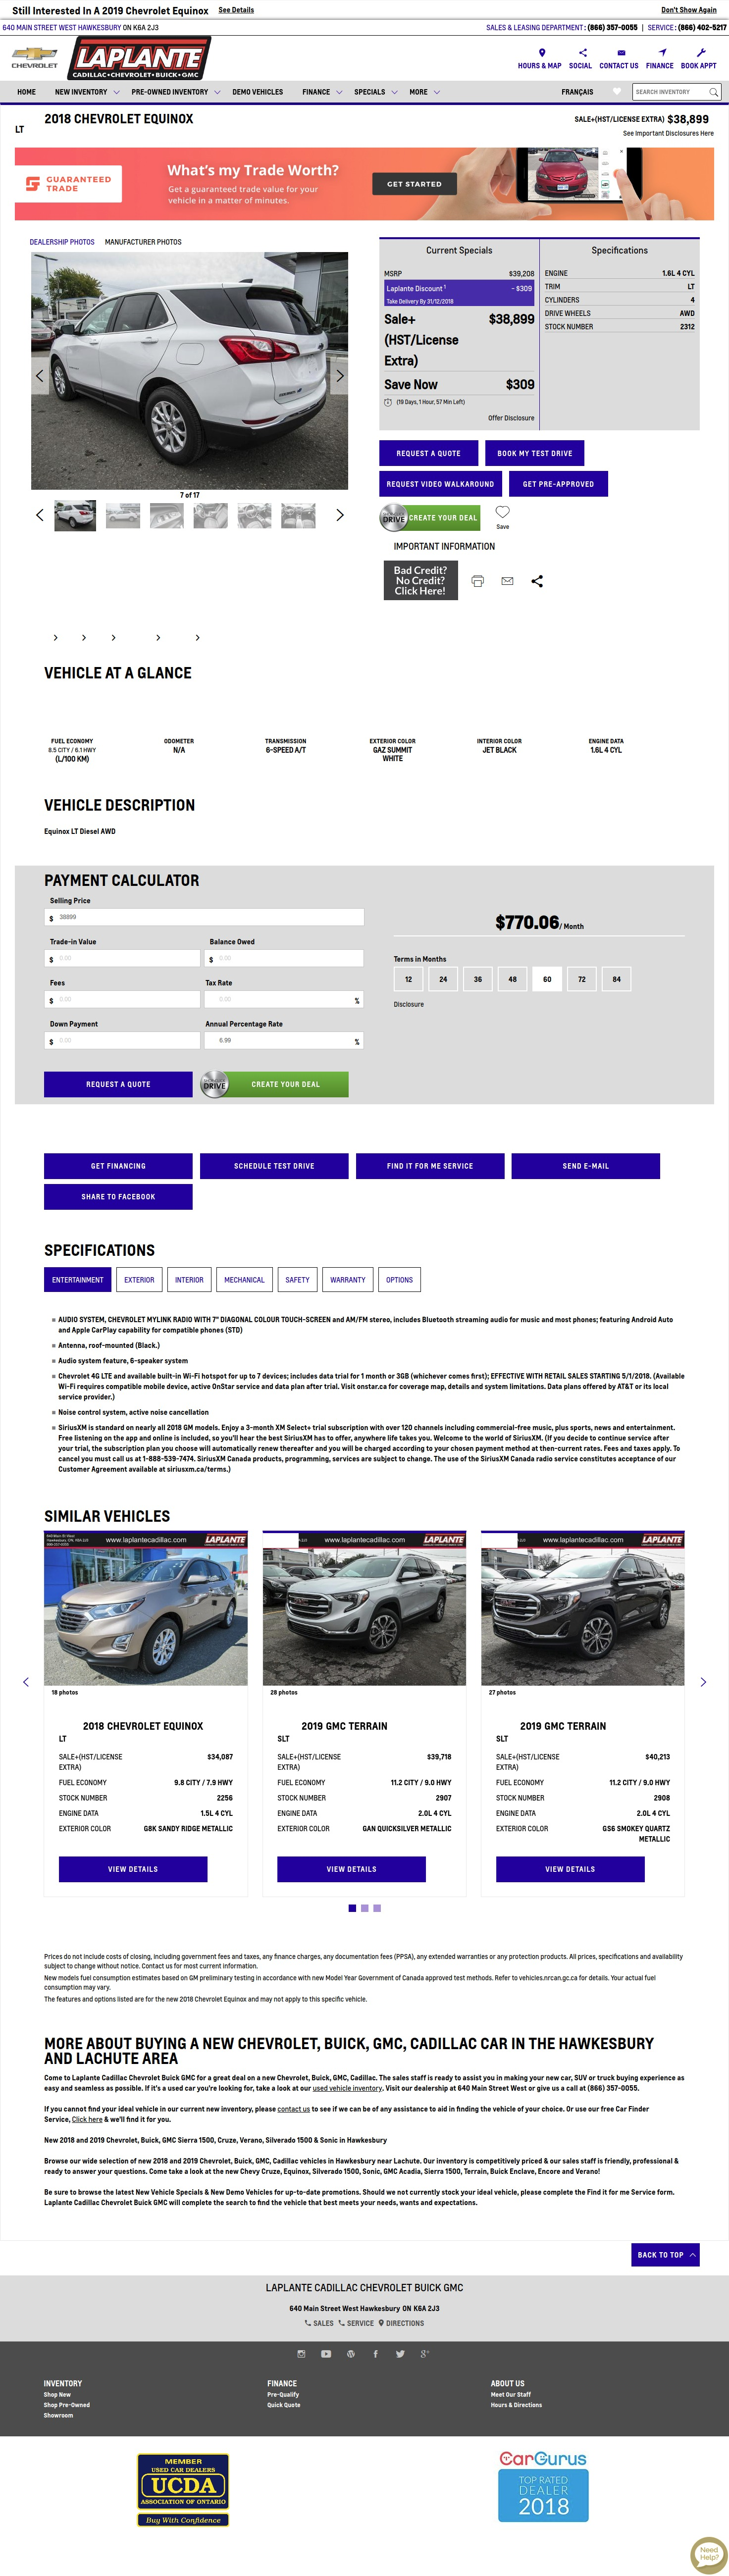car: (335, 508, 348, 521)
